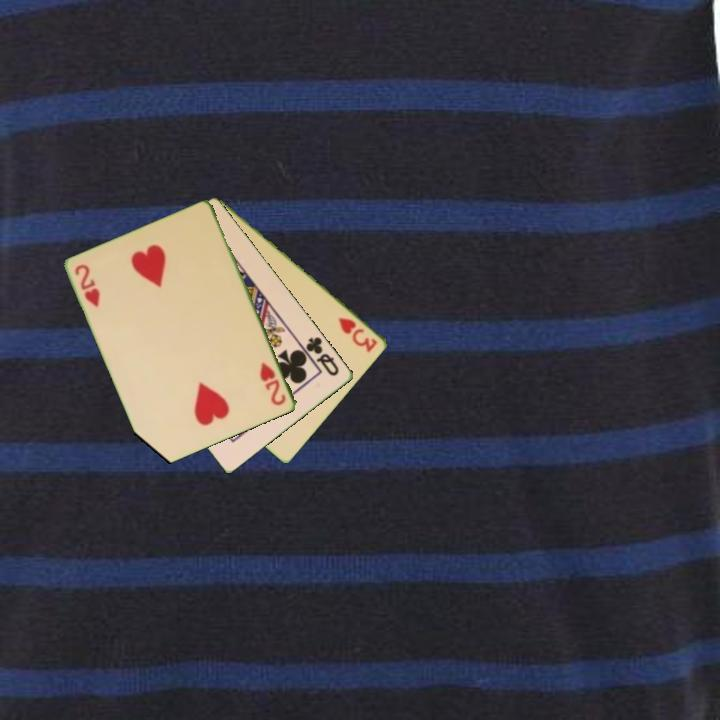2h: (257, 358, 289, 409), (72, 261, 103, 310)
3h: (335, 313, 381, 355)
Qc: (303, 333, 342, 379)
